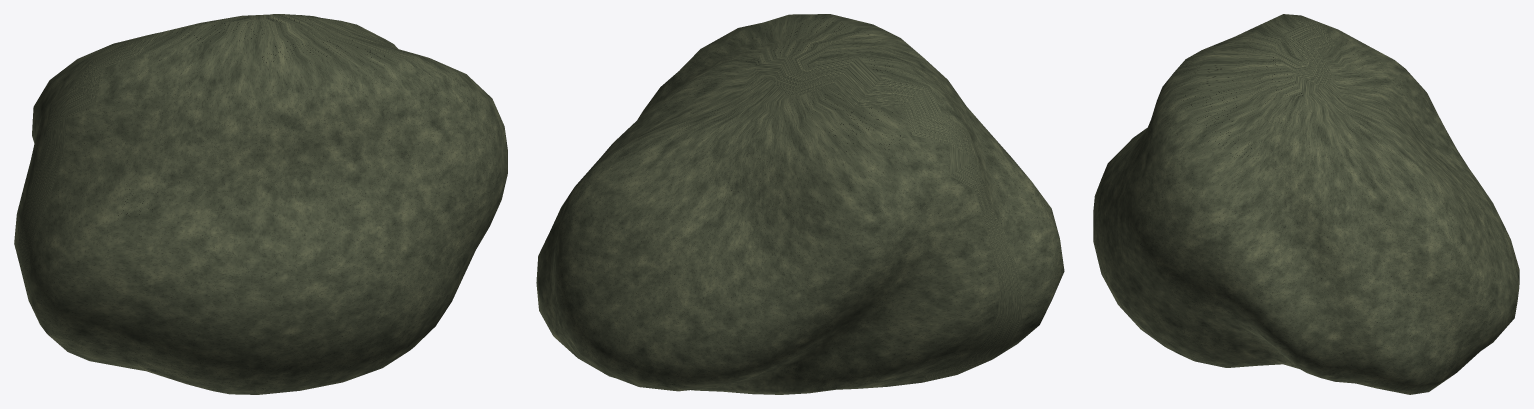
File: obstacle_mid_4.dae
3 views of the same model, side by side, from view 1: azimuth 30°, elevation 25°; view 2: azimuth 150°, elevation 25°; view 3: azimuth 270°, elevation 25° (orthographic). The views are drawn at different scales.
Parts seen in each view (by area): view 1: obstacle_mid_4; view 2: obstacle_mid_4; view 3: obstacle_mid_4.
Boxes of the visible parts, x1,y1,x2,y2 form: obstacle_mid_4: (14,14,507,394); obstacle_mid_4: (536,14,1064,394); obstacle_mid_4: (1093,14,1519,394).
Size of the model in its own units: 1 by 0.9103 by 0.6506.
1 material, 1 textured.
